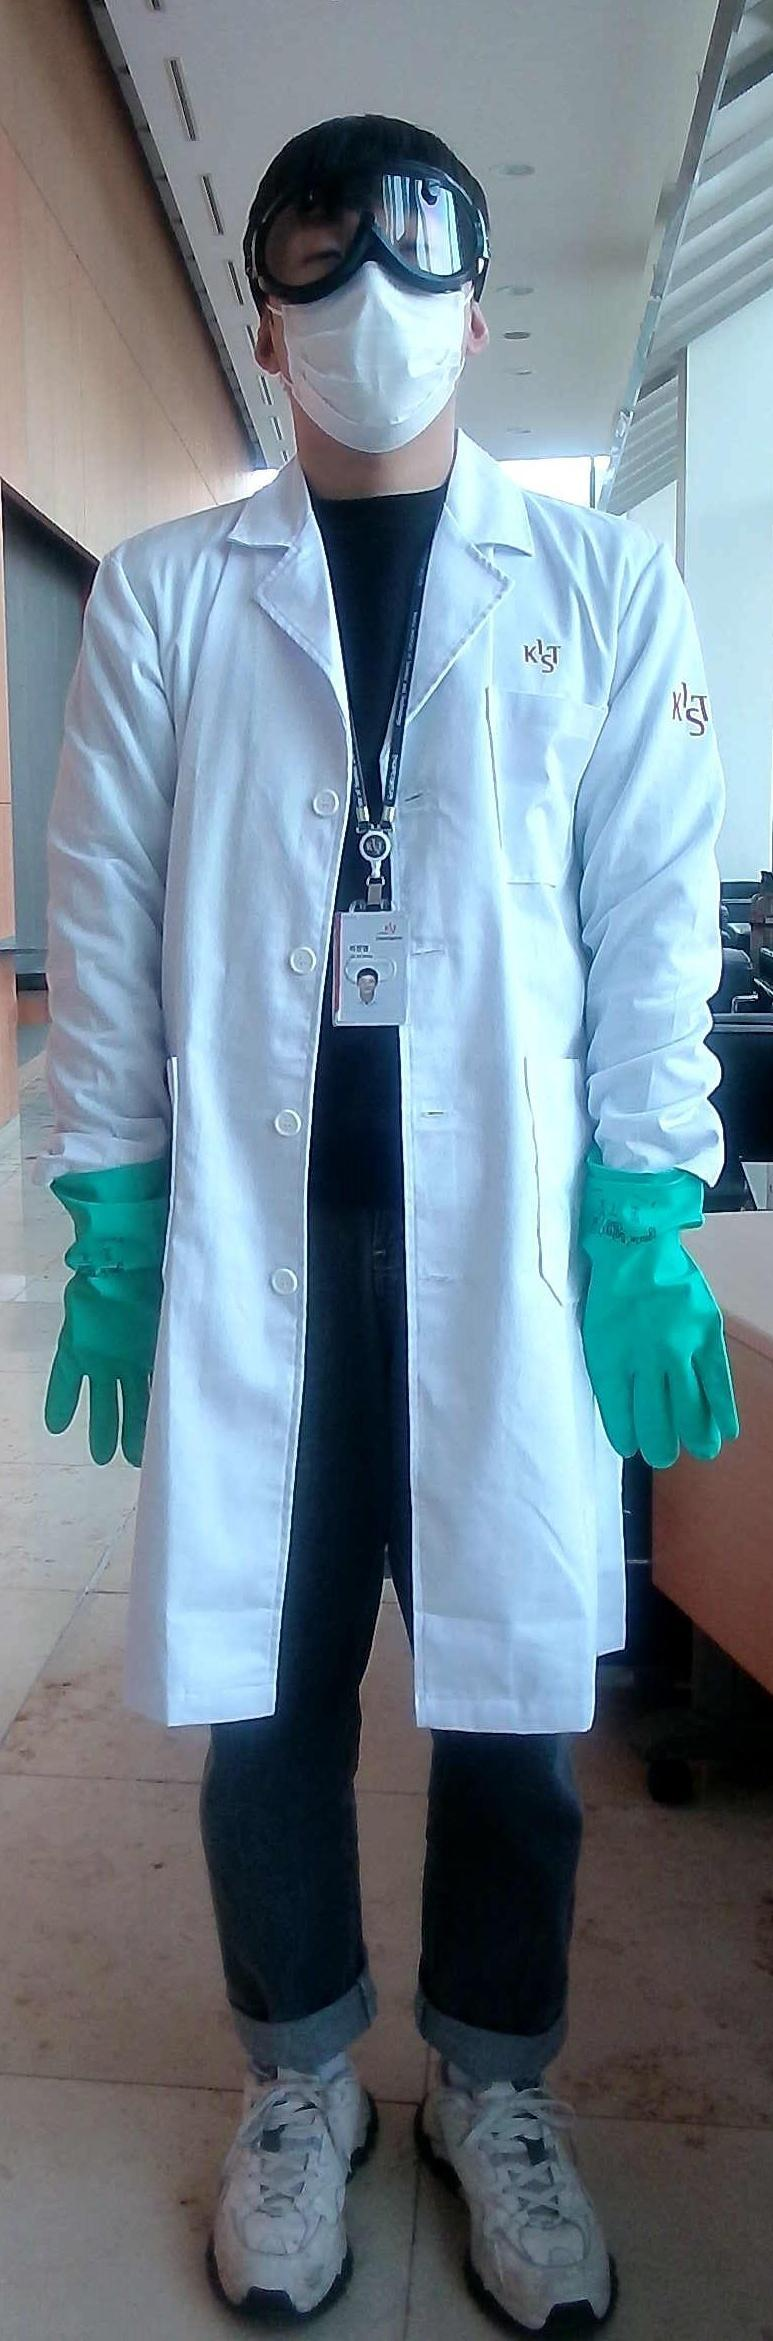lab_coat: (160, 532, 616, 1715)
